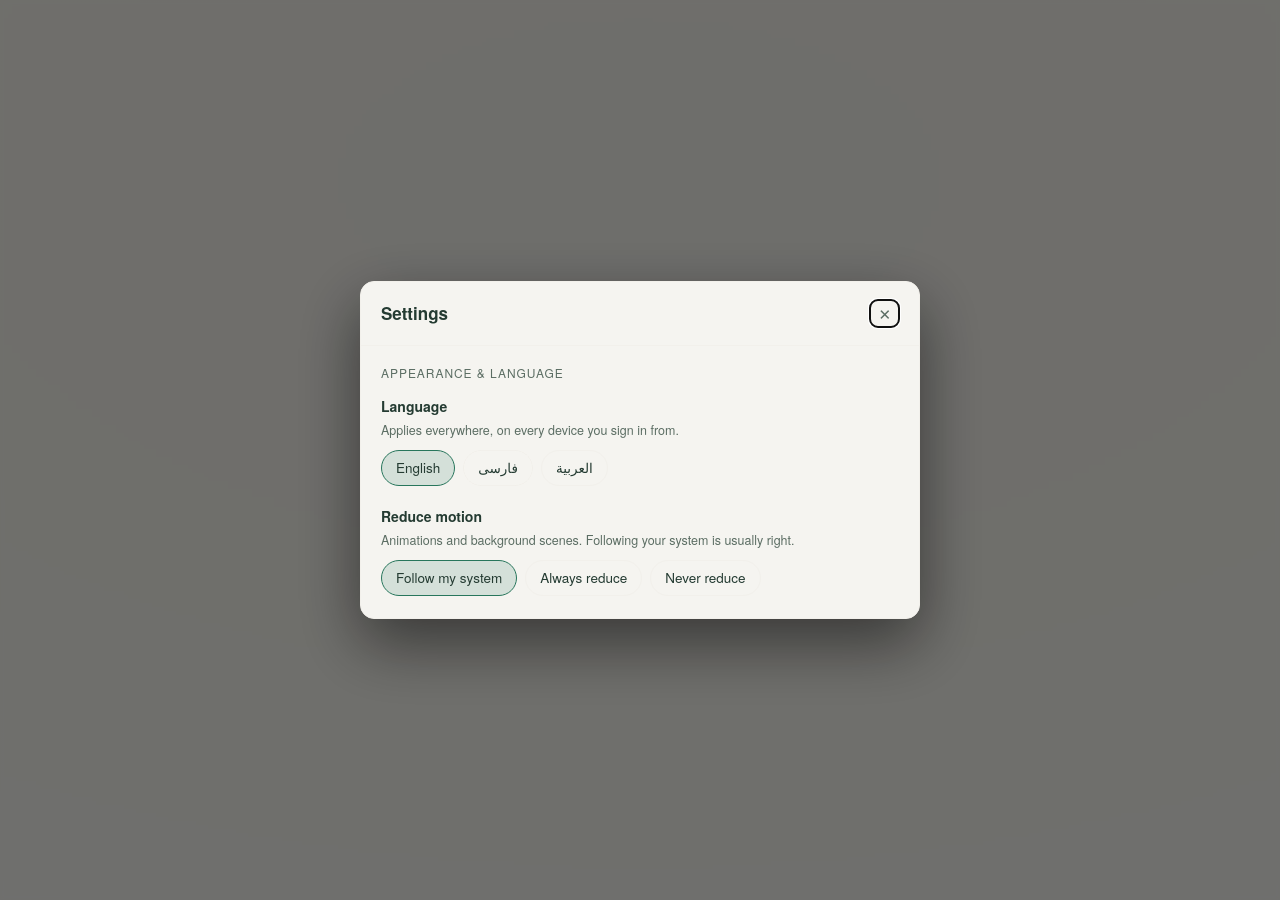
Scenario: settings dialog › says plainly that Arabic has no translation yet
The width and height of the screenshot is (1280, 900).
Click the radio button labelled "العربية" at (574,468), box [541,450,608,486]
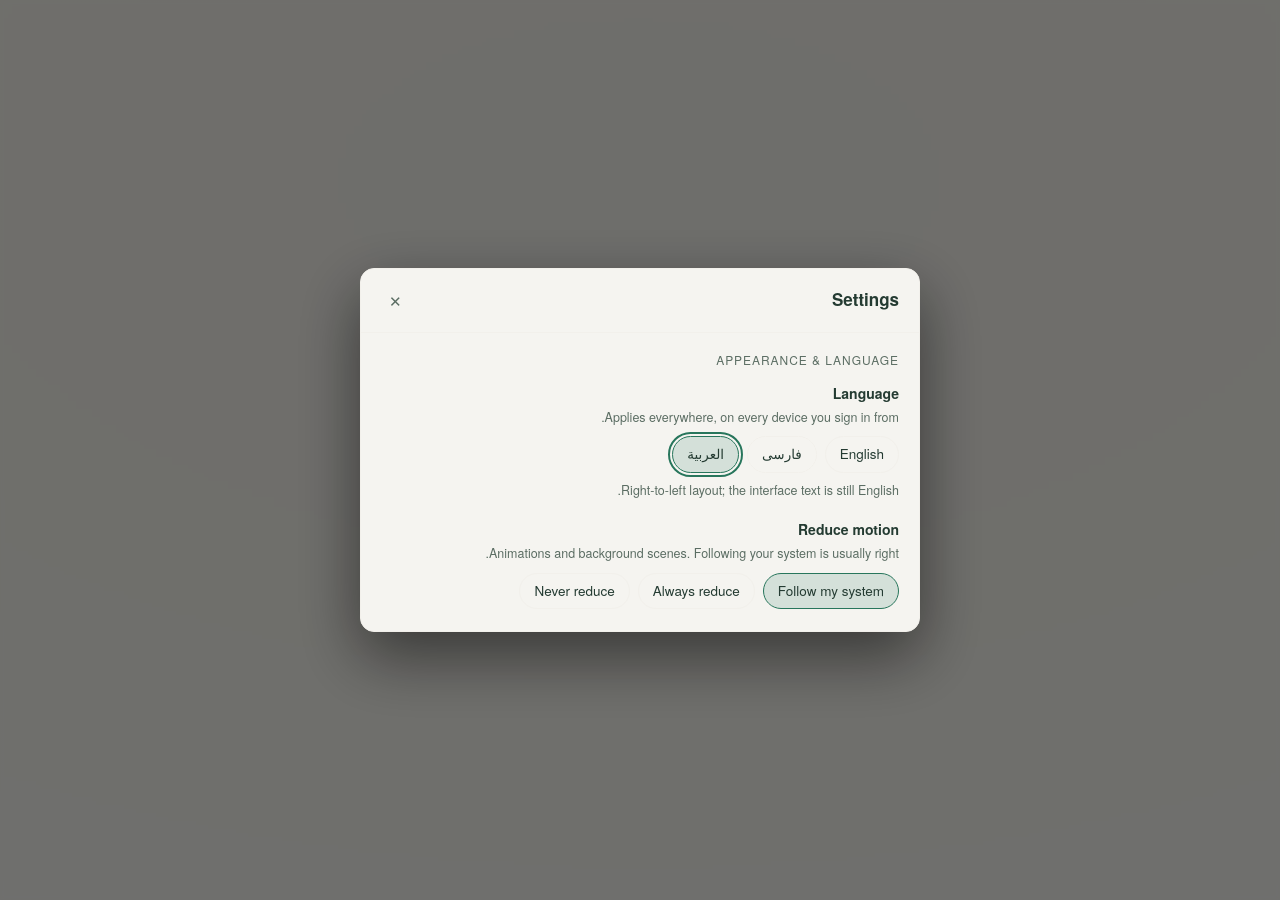
Check: the text "Right-to-left layout; the interface text is still English." is shown, box [618,481,899,499]
